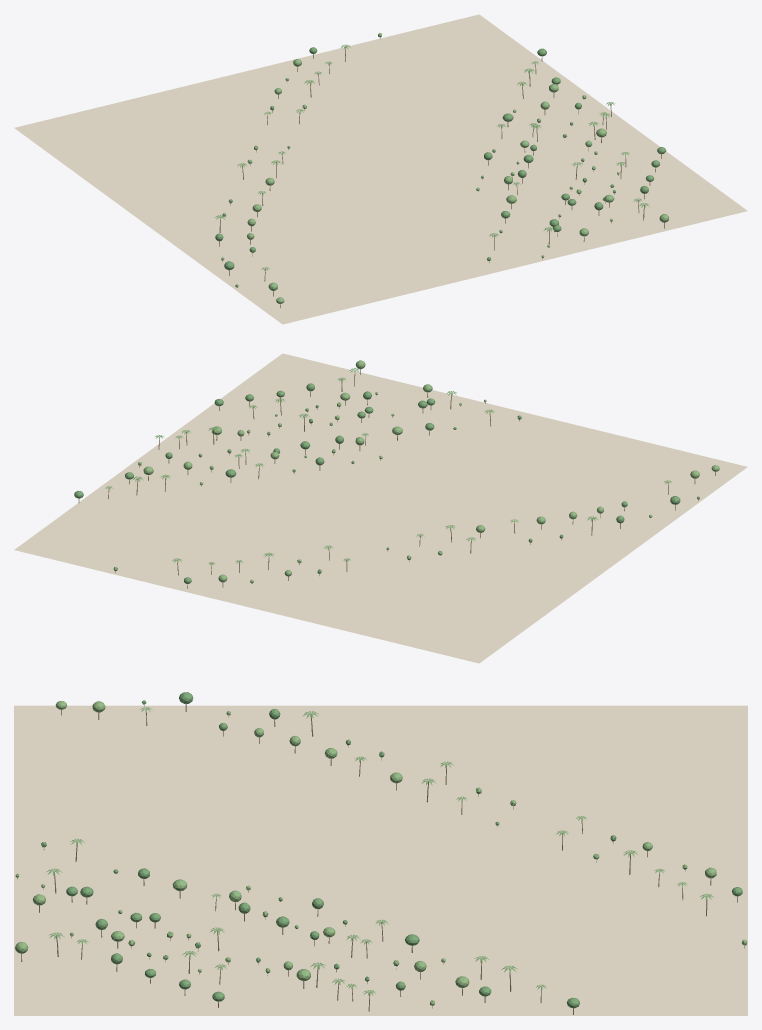
Rendered from nature_-6_3.glb.
The picture shows the model from 3 angles, top to bottom: view 1: azimuth 30°, elevation 25°; view 2: azimuth 150°, elevation 25°; view 3: azimuth 270°, elevation 25°; orthographic projection. The views are drawn at different scales.
Visible parts, largest first — view 1: ground, foliage_a, foliage_b, palm_leaf, trunk; view 2: ground, foliage_a, foliage_b, trunk, palm_leaf; view 3: ground, foliage_a, foliage_b, palm_leaf, trunk.
Boxes of the visible parts, box(x1,y1,x2,y2) form: ground: box(14, 14, 747, 324); foliage_a: box(215, 47, 666, 287); foliage_b: box(221, 33, 668, 303); palm_leaf: box(214, 44, 649, 270); trunk: box(219, 38, 664, 307); ground: box(14, 353, 747, 663); foliage_a: box(74, 383, 699, 583); foliage_b: box(113, 360, 719, 583); trunk: box(78, 369, 715, 588); palm_leaf: box(105, 368, 671, 565); ground: box(14, 705, 747, 1015); foliage_a: box(41, 692, 742, 1008); foliage_b: box(15, 701, 747, 1005); palm_leaf: box(46, 707, 714, 995); trunk: box(17, 704, 744, 1014).
Size of the model in its own units: 252 by 8.87 by 250.
